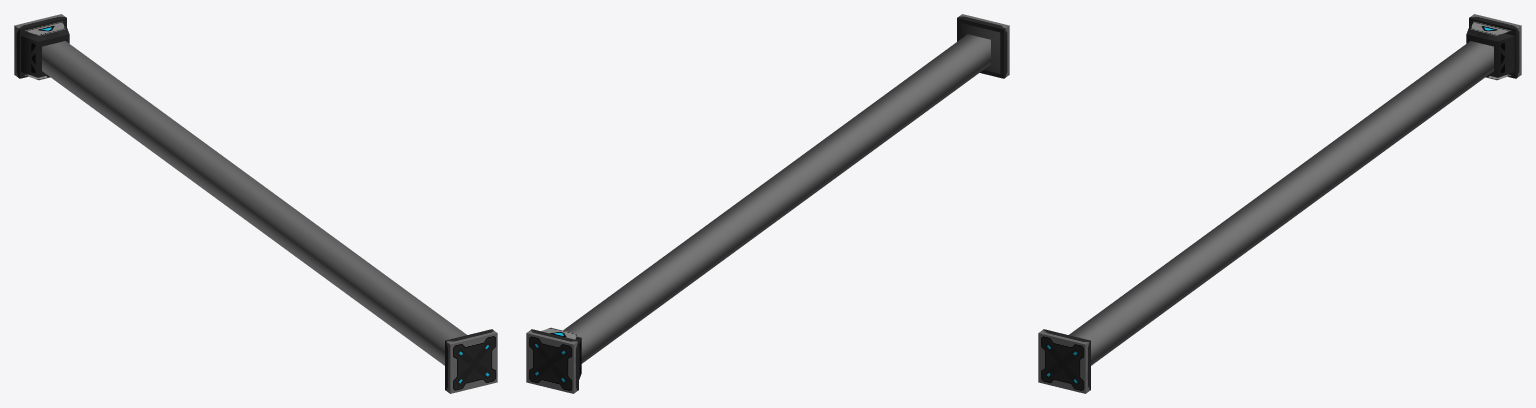
The model's file is obj_interactive_piston_04_on_lod1.fbx.
3 renders of one model, left to right at view 1: azimuth 30°, elevation 25°; view 2: azimuth 150°, elevation 25°; view 3: azimuth 330°, elevation 25°, orthographic.
Visible parts, largest first — view 1: obj_interactive_piston_03_on_lod1; view 2: obj_interactive_piston_03_on_lod1; view 3: obj_interactive_piston_03_on_lod1.
Boxes of the visible parts, <box> form: obj_interactive_piston_03_on_lod1: <box>14,14,497,393</box>; obj_interactive_piston_03_on_lod1: <box>526,14,1009,393</box>; obj_interactive_piston_03_on_lod1: <box>1038,14,1521,393</box>.
Bounding box in the file's own units: 1 × 1 × 16.
